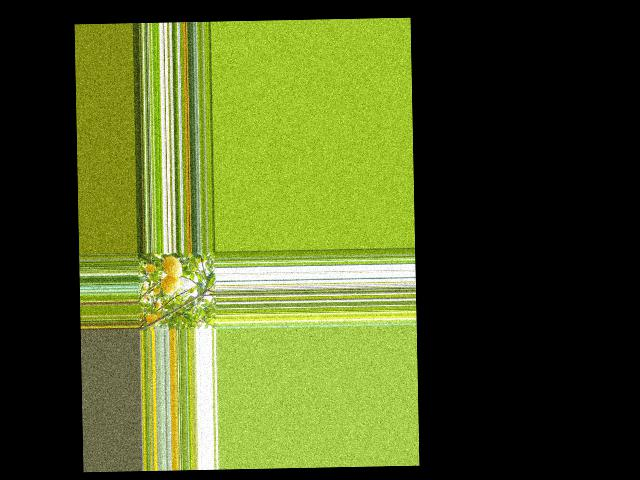lemon: (158, 273, 182, 295)
